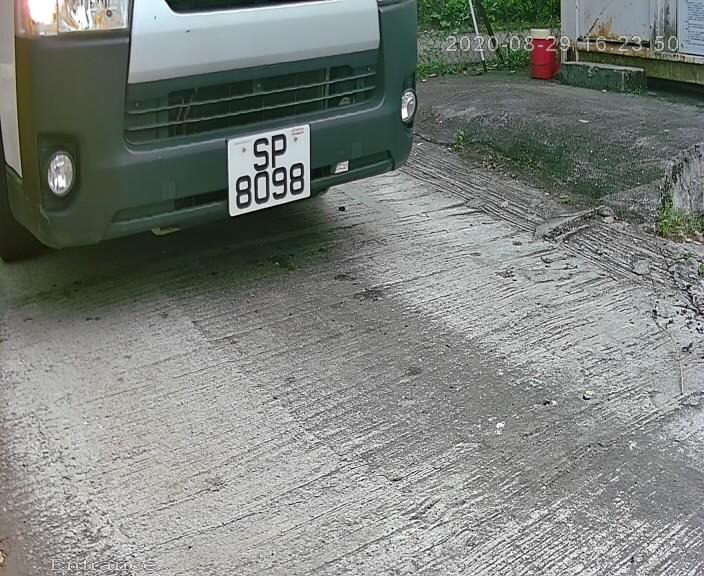Car: (13, 1, 469, 307)
License Plate: (221, 121, 321, 219)
